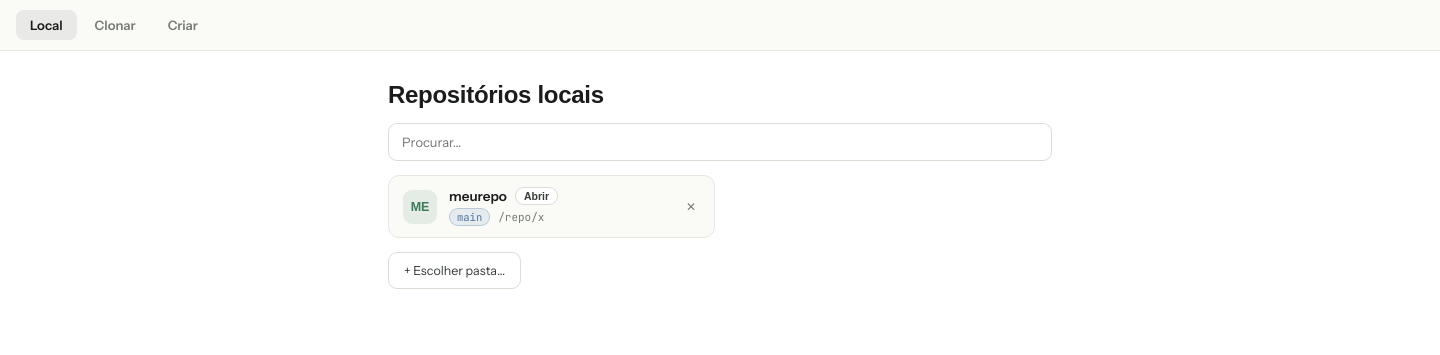
Test: RepoPicker: empty/no-match state › offers to open by path or clone when a search matches nothing
The image size is (1440, 355).
Type "zzz-no-such-thing-zzz" into the field labelled "Procurar…" at (720, 142), box [388,123,1052,161]
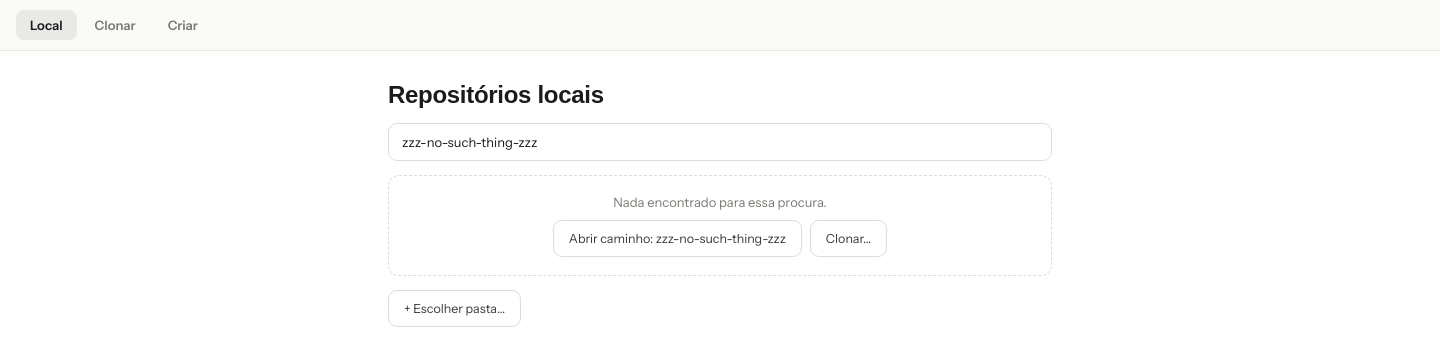
Now the text "Nada encontrado para essa procura." is shown, box [613,194,827,210]
// Wired to the real clone flow (existing "Clonar" tab), not a fabricated action.
Click the button "Clonar…" at (849, 238), box [810,220,887,257]
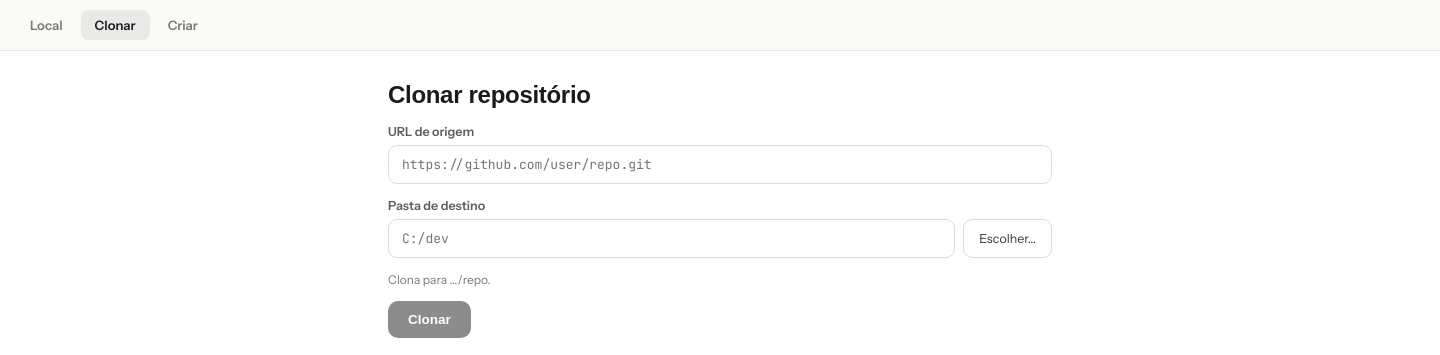
Now the field labelled "URL de origem" is shown, box [388,145,1052,184]
